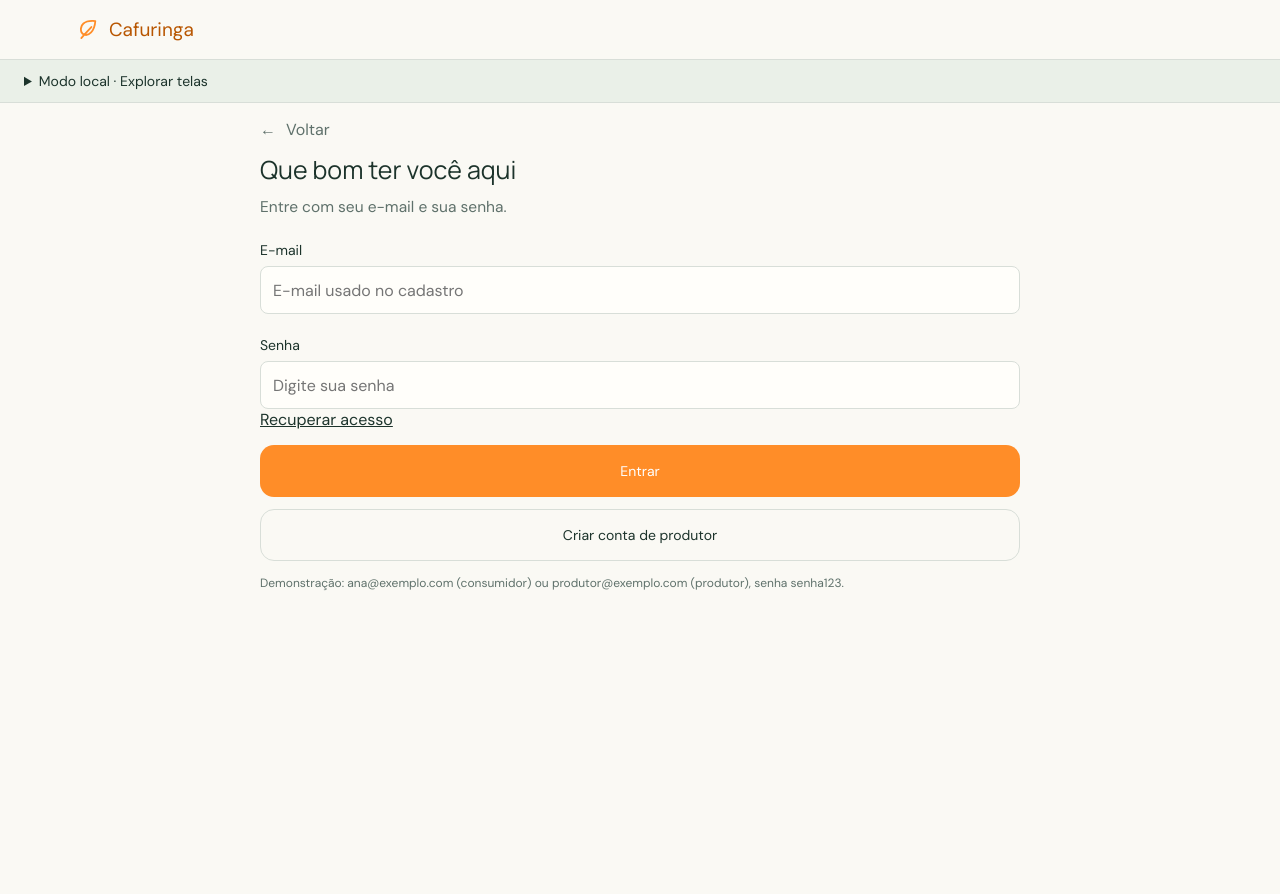
HU02 — acesso ao cadastro de produtor no app › leva do login ao cadastro pelo botão Criar uma conta
Click the button "Criar conta de produtor" at (640, 535), box [260,509,1020,561]
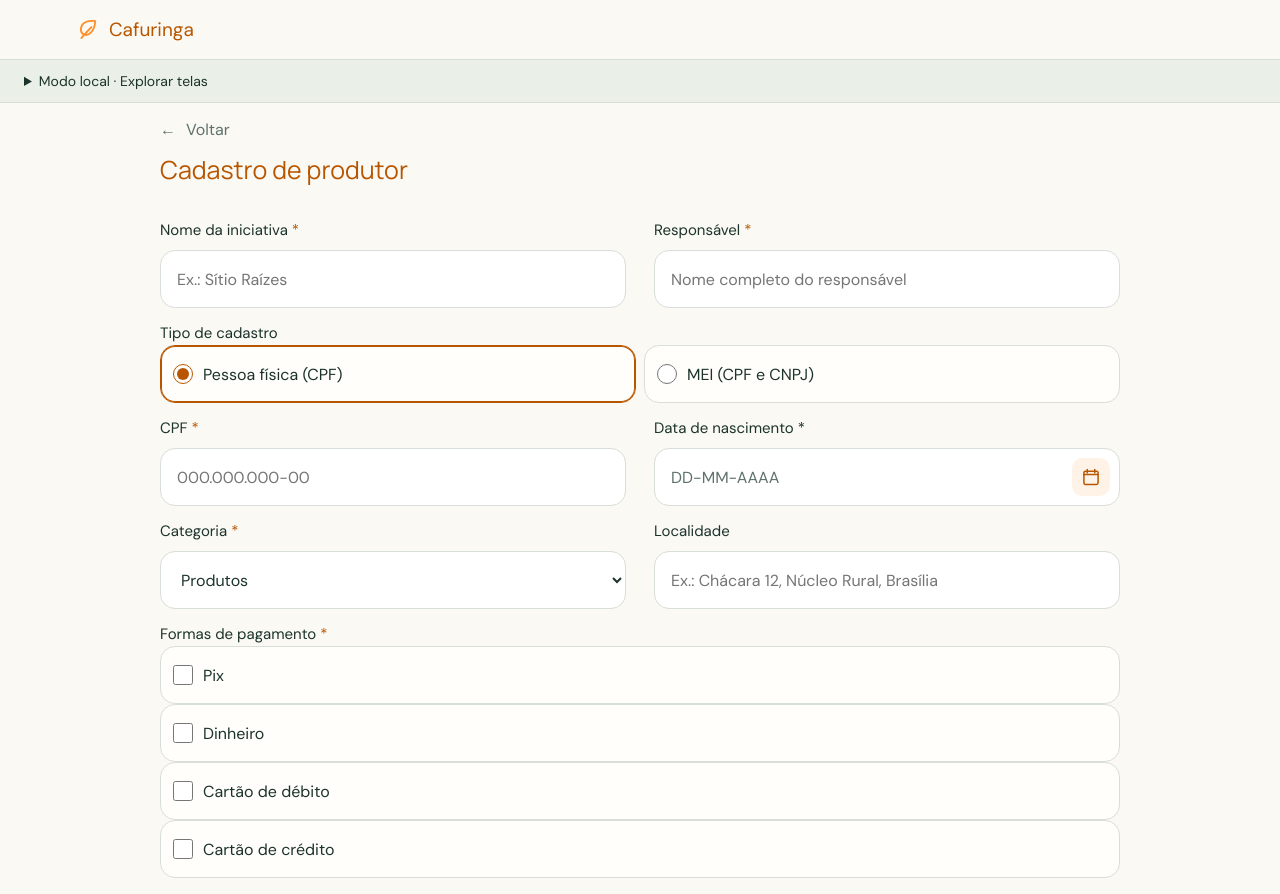
Now the heading "Cadastro de produtor" is shown, box [160,152,408,187]
